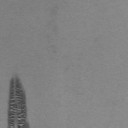oxide scale of plate system: (8, 76, 30, 128)
